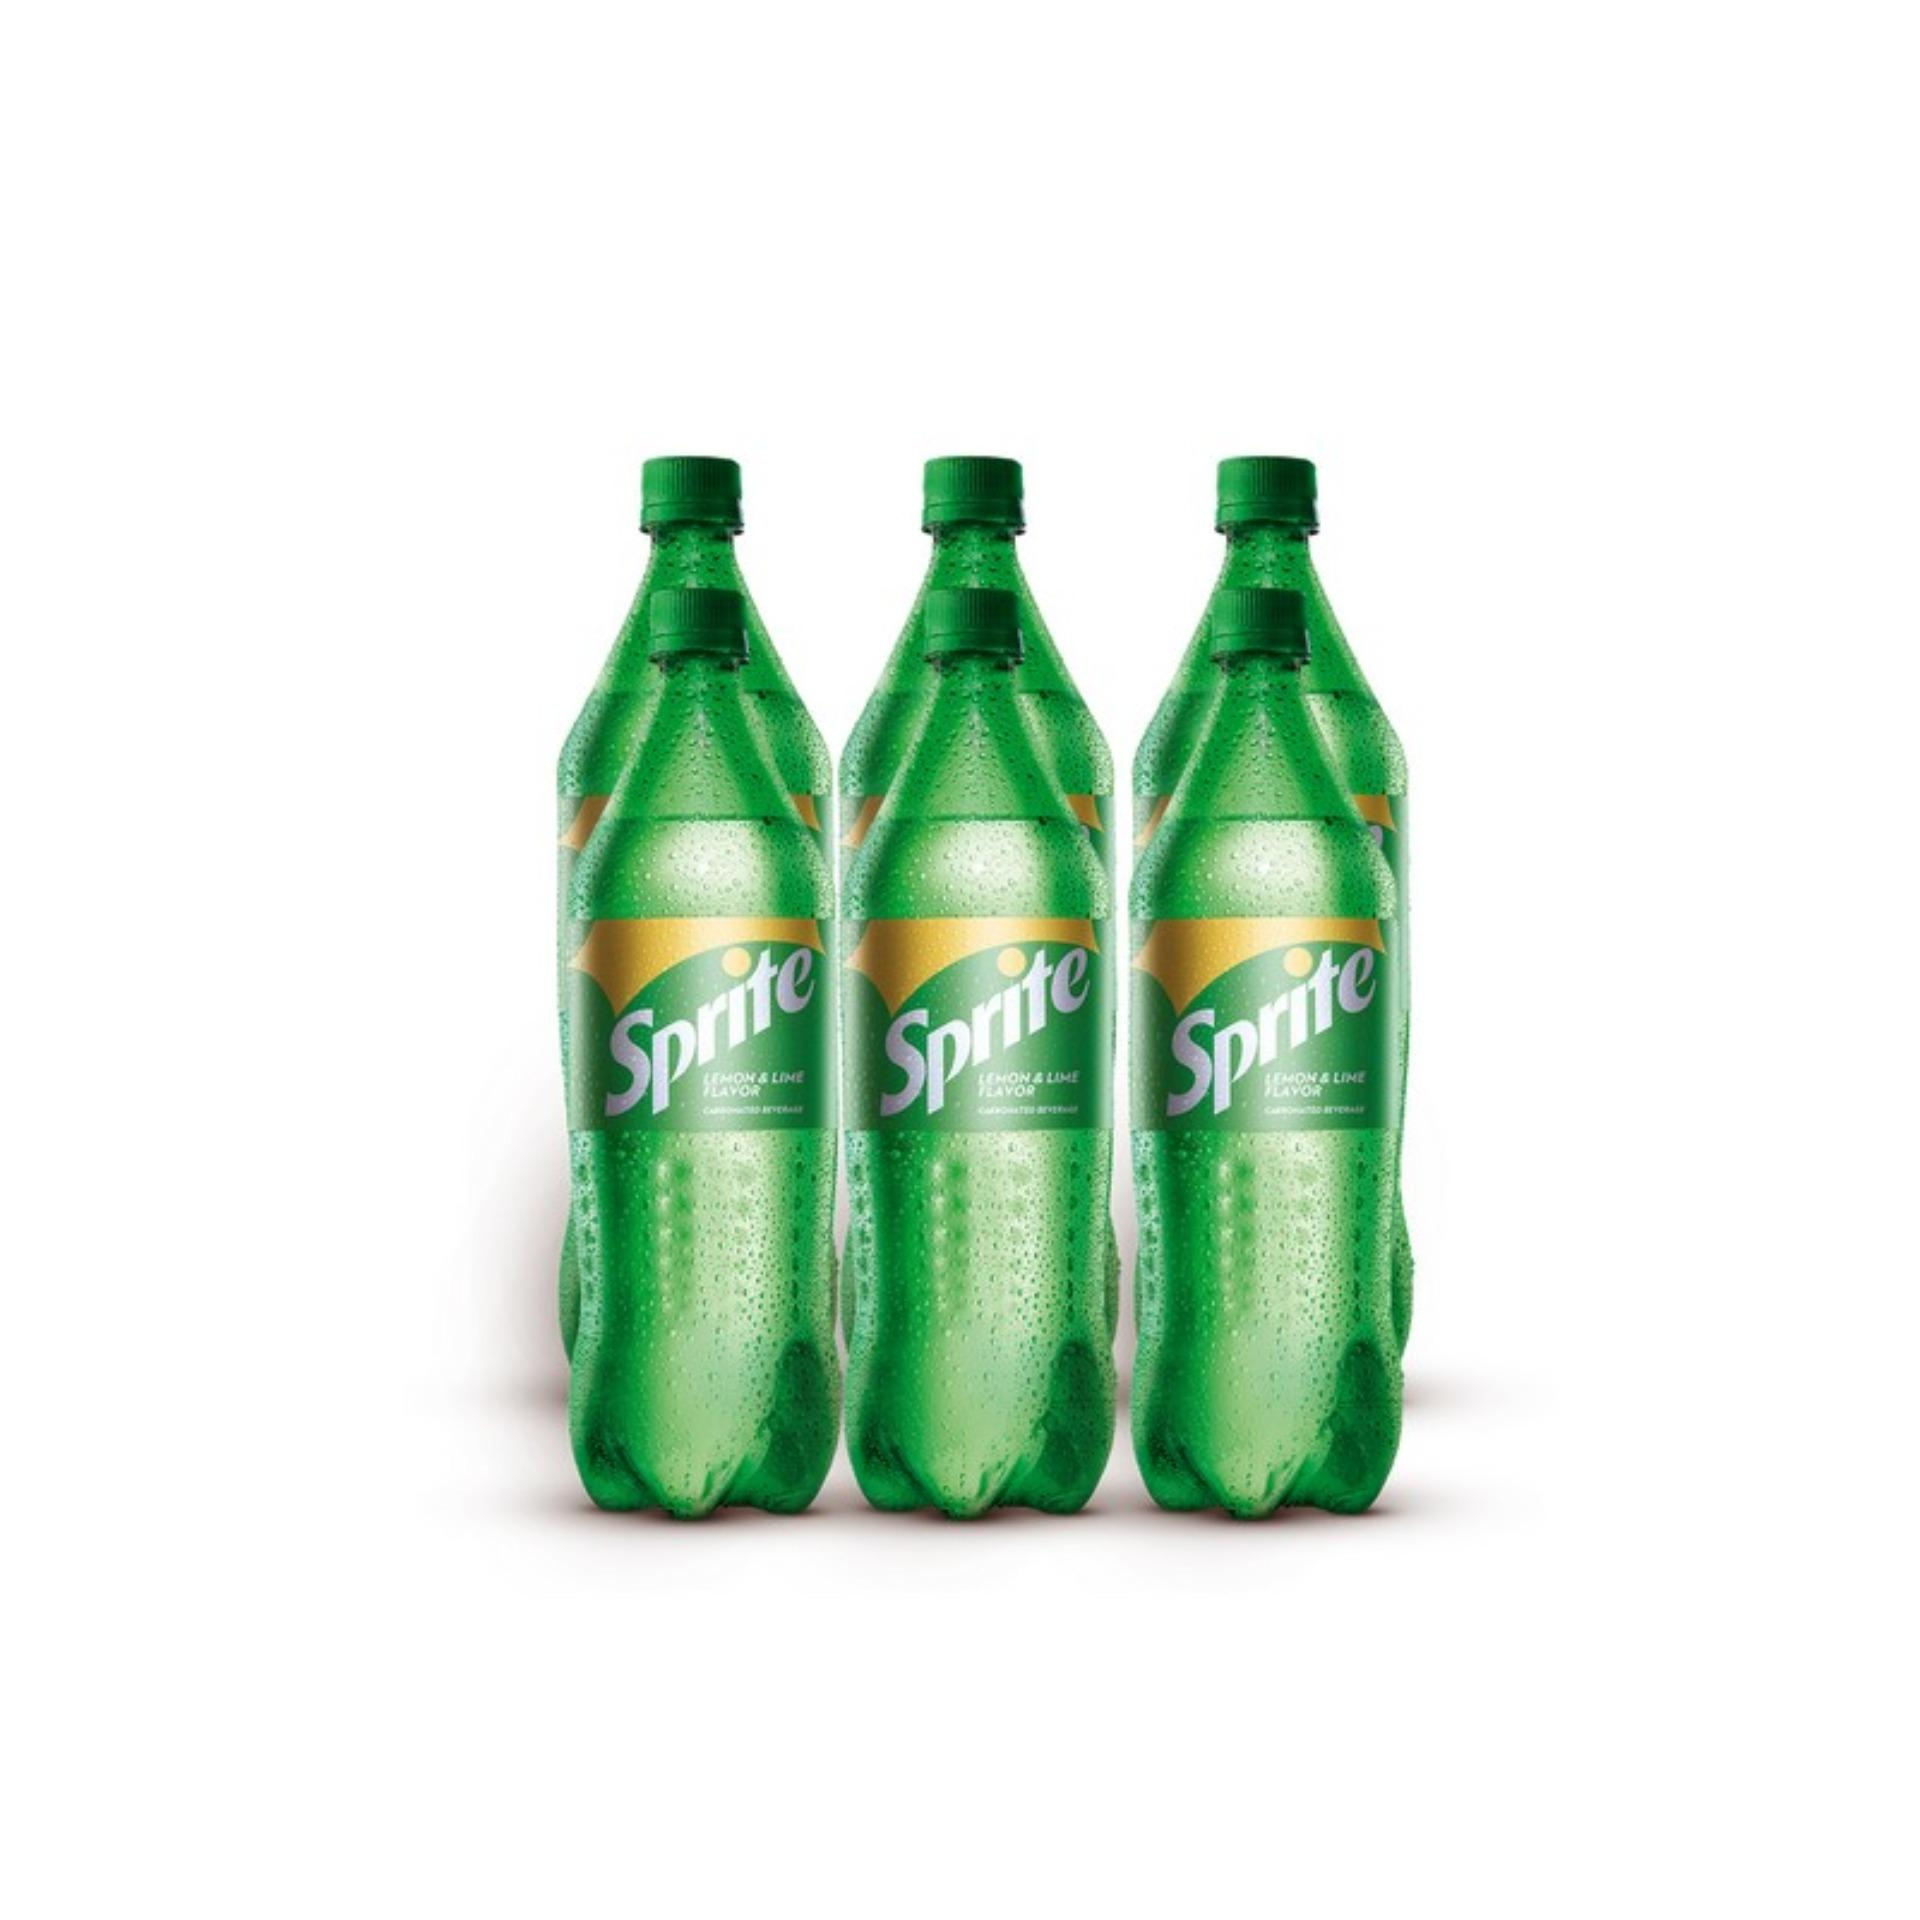Sprite: (837, 600, 1138, 1544), (542, 593, 840, 1537), (1136, 628, 1435, 1572)
